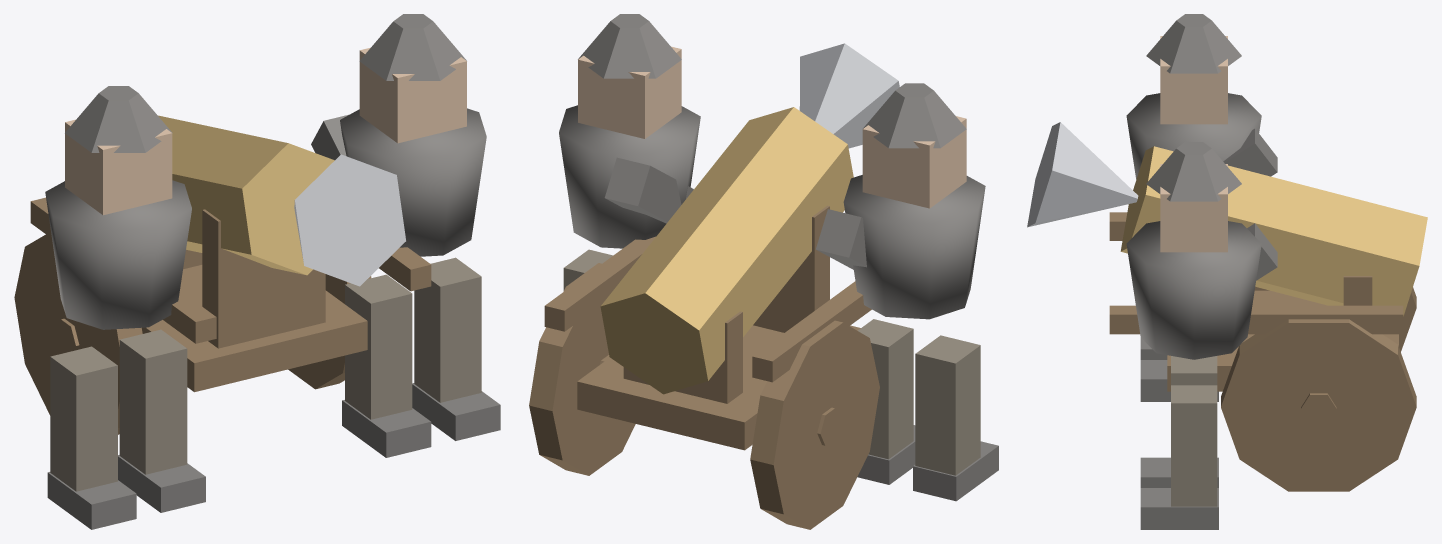
Rendered from troop-thunder-cart.glb.
3 views of the same model, side by side, from view 1: azimuth 30°, elevation 25°; view 2: azimuth 150°, elevation 25°; view 3: azimuth 270°, elevation 25° (orthographic). The views are drawn at different scales.
Parts seen in each view (by area): view 1: crew0_torso, ram, crew1_torso, ram_tip, support_f, crew0_leg_r, crew0_leg_l, body, crew1_leg_r, crew1_leg_l, wheel_l, crew0_head (+12 smaller); view 2: ram, wheel_l, crew0_torso, crew1_torso, wheel_r, body, crew0_leg_l, ram_tip, crew0_head, crew1_head, crew0_leg_r, crew0_helmet (+11 smaller); view 3: wheel_r, ram, crew1_torso, ram_tip, crew1_leg_r, crew0_torso, rail_r, crew1_head, crew0_head, crew0_helmet, crew1_helmet, crew1_foot_r (+10 smaller).
Boxes of the visible parts, box(x1,y1,x2,y2) form: crew0_torso: box(45, 180, 191, 329); ram: box(158, 115, 334, 275); crew1_torso: box(340, 108, 486, 256); ram_tip: box(294, 154, 405, 286); support_f: box(202, 209, 325, 348); crew0_leg_r: box(119, 329, 187, 474); crew0_leg_l: box(50, 346, 117, 491); body: box(141, 265, 367, 392); crew1_leg_r: box(414, 257, 481, 402); crew1_leg_l: box(345, 274, 412, 419); wheel_l: box(14, 231, 142, 434); crew0_head: box(65, 119, 172, 215); ram: box(600, 107, 853, 394); wheel_l: box(750, 320, 879, 529); crew0_torso: box(843, 175, 985, 319); crew1_torso: box(559, 105, 700, 248); wheel_r: box(529, 263, 635, 475); body: box(577, 325, 860, 450); crew0_leg_l: box(915, 335, 980, 475); ram_tip: box(799, 43, 899, 148); crew0_head: box(862, 116, 966, 208); crew1_head: box(578, 46, 681, 138); crew0_leg_r: box(857, 319, 913, 459); crew0_helmet: box(863, 83, 966, 148); wheel_r: box(1221, 319, 1416, 491); ram: box(1120, 146, 1427, 316); crew1_torso: box(1126, 221, 1261, 359); ram_tip: box(1027, 122, 1138, 227); crew1_leg_r: box(1171, 385, 1217, 506); crew0_torso: box(1126, 93, 1261, 179); rail_r: box(1109, 305, 1403, 334); crew1_head: box(1160, 164, 1227, 252); crew0_head: box(1160, 36, 1227, 124); crew0_helmet: box(1146, 14, 1241, 73); crew1_helmet: box(1146, 142, 1241, 201); crew1_foot_r: box(1140, 488, 1218, 529).
Bounding box in the file's own units: 0.246 × 0.221 × 0.2251.
